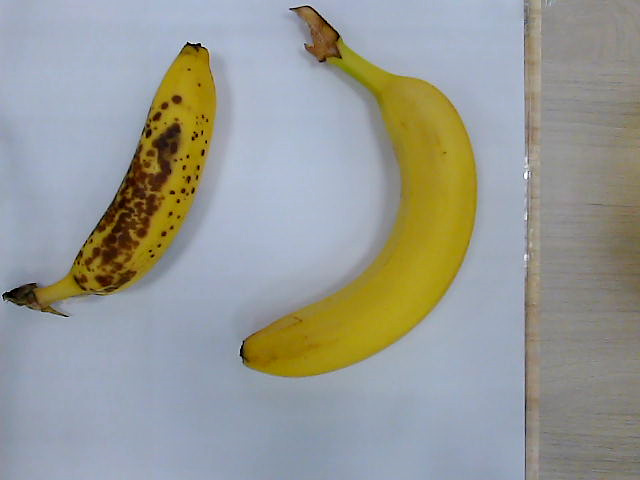fresh_banana: (238, 6, 479, 378)
rotten_banana: (8, 41, 217, 316)
